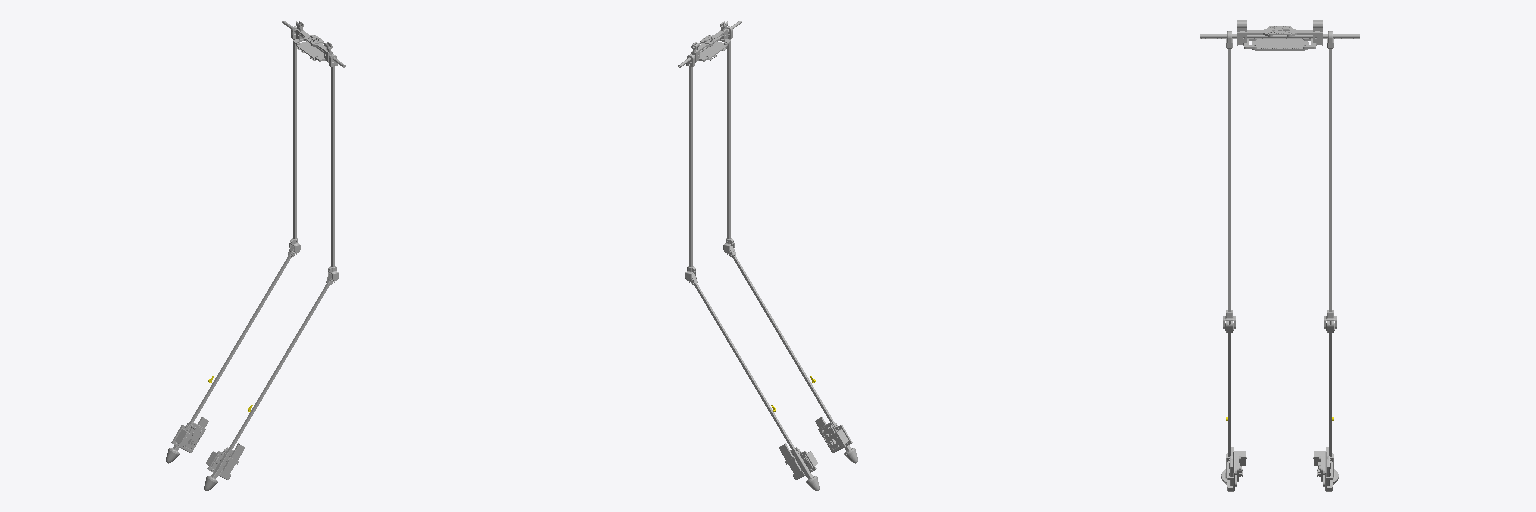
robot.urdf — urdf:
<?xml version="1.0" encoding="utf-8"?>
<!-- This URDF was automatically created by SolidWorks to URDF Exporter! Originally created by Stephen Brawner ([email redacted]) 
     Commit Version: 1.6.0-1-g15f4949  Build Version: 1.6.7594.29634
     For more information, please see http://wiki.ros.org/sw_urdf_exporter -->
<robot
  name="urdf">
  <link
    name="base_link">
    <inertial>
      <origin
        xyz="-0.00037819 9.7743E-06 -0.0034155"
        rpy="0 0 0" />
      <mass
        value="0.023056" />
      <inertia
        ixx="1.7761E-05"
        ixy="4.0386E-08"
        ixz="-6.8641E-09"
        iyy="1.3959E-06"
        iyz="8.9078E-09"
        izz="1.8127E-05" />
    </inertial>
    <visual>
      <origin
        xyz="0 0 0"
        rpy="0 0 0" />
      <geometry>
        <mesh
          filename="package://urdf/meshes/base_link.STL" />
      </geometry>
      <material
        name="">
        <color
          rgba="0.75294 0.75294 0.75294 1" />
      </material>
    </visual>
    <collision>
      <origin
        xyz="0 0 0"
        rpy="0 0 0" />
      <geometry>
        <mesh
          filename="package://urdf/meshes/base_link.STL" />
      </geometry>
    </collision>
  </link>
  <link
    name="PELVIS">
    <inertial>
      <origin
        xyz="-0.00037819 9.7743E-06 -0.0034155"
        rpy="0 0 0" />
      <mass
        value="0.023056" />
      <inertia
        ixx="1.7761E-05"
        ixy="4.0386E-08"
        ixz="-6.8641E-09"
        iyy="1.3959E-06"
        iyz="8.9078E-09"
        izz="1.8127E-05" />
    </inertial>
    <visual>
      <origin
        xyz="0 0 0"
        rpy="0 0 0" />
      <geometry>
        <mesh
          filename="package://urdf/meshes/PELVIS.STL" />
      </geometry>
      <material
        name="">
        <color
          rgba="0.75294 0.75294 0.75294 1" />
      </material>
    </visual>
    <collision>
      <origin
        xyz="0 0 0"
        rpy="0 0 0" />
      <geometry>
        <mesh
          filename="package://urdf/meshes/PELVIS.STL" />
      </geometry>
    </collision>
  </link>
  <joint
    name="floating_joint"
    type="fixed">
    <origin
      xyz="0 0 0"
      rpy="0 0 0" />
    <parent
      link="base_link" />
    <child
      link="PELVIS" />
    <axis
      xyz="0 0 0" />
  </joint>
  <link
    name="FEMUR_LEFT">
    <inertial>
      <origin
        xyz="-3.7698E-05 0.18369 -2.7803E-06"
        rpy="0 0 0" />
      <mass
        value="0.010918" />
      <inertia
        ixx="8.5863E-05"
        ixy="-2.5256E-09"
        ixz="2.8665E-13"
        iyy="9.2522E-08"
        iyz="6.8531E-11"
        izz="8.5853E-05" />
    </inertial>
    <visual>
      <origin
        xyz="0 0 0"
        rpy="0 0 0" />
      <geometry>
        <mesh
          filename="package://urdf/meshes/FEMUR_LEFT.STL" />
      </geometry>
      <material
        name="">
        <color
          rgba="0.75294 0.75294 0.75294 1" />
      </material>
    </visual>
    <collision>
      <origin
        xyz="0 0 0"
        rpy="0 0 0" />
      <geometry>
        <mesh
          filename="package://urdf/meshes/FEMUR_LEFT.STL" />
      </geometry>
    </collision>
  </link>
  <joint
    name="HIP_LEFT"
    type="revolute">
    <origin
      xyz="0 0.058025 0"
      rpy="-1.5708 0 0" />
    <parent
      link="PELVIS" />
    <child
      link="FEMUR_LEFT" />
    <axis
      xyz="0 0 1" />
    <limit
      lower="-1.57"
      upper="1.57"
      effort="0"
      velocity="0" />
  </joint>
  <link
    name="TIBIA_LEFT">
    <inertial>
      <origin
        xyz="0.0055109 0.22055 -0.0034787"
        rpy="0 0 0" />
      <mass
        value="0.028163" />
      <inertia
        ixx="3.0121E-05"
        ixy="1.791E-07"
        ixz="4.6609E-08"
        iyy="1.0967E-06"
        iyz="-1.2301E-07"
        izz="3.0714E-05" />
    </inertial>
    <visual>
      <origin
        xyz="0 0 0"
        rpy="0 0 0" />
      <geometry>
        <mesh
          filename="package://urdf/meshes/TIBIA_LEFT.STL" />
      </geometry>
      <material
        name="">
        <color
          rgba="0.75294 0.75294 0.75294 1" />
      </material>
    </visual>
    <collision>
      <origin
        xyz="0 0 0"
        rpy="0 0 0" />
      <geometry>
        <mesh
          filename="package://urdf/meshes/TIBIA_LEFT.STL" />
      </geometry>
    </collision>
  </link>
  <joint
    name="KNEE_LEFT"
    type="revolute">
    <origin
      xyz="0 0.36501 0"
      rpy="0 0 0" />
    <parent
      link="FEMUR_LEFT" />
    <child
      link="TIBIA_LEFT" />
    <axis
      xyz="0 0 1" />
    <limit
      lower="0.47124"
      upper="0.7854"
      effort="0"
      velocity="0" />
  </joint>
  <link
    name="MOTORARM_LEFT">
    <inertial>
      <origin
        xyz="0.0016754 1.3878E-17 -0.0006327"
        rpy="0 0 0" />
      <mass
        value="6.5322E-05" />
      <inertia
        ixx="1.6456E-10"
        ixy="7.5509E-26"
        ixz="-6.9245E-11"
        iyy="6.5279E-10"
        iyz="-6.6696E-27"
        izz="7.0527E-10" />
    </inertial>
    <visual>
      <origin
        xyz="0 0 0"
        rpy="0 0 0" />
      <geometry>
        <mesh
          filename="package://urdf/meshes/MOTORARM_LEFT.STL" />
      </geometry>
      <material
        name="">
        <color
          rgba="1 0.93725 0.13725 1" />
      </material>
    </visual>
    <collision>
      <origin
        xyz="0 0 0"
        rpy="0 0 0" />
      <geometry>
        <mesh
          filename="package://urdf/meshes/MOTORARM_LEFT.STL" />
      </geometry>
    </collision>
  </link>
  <joint
    name="MOTOR_LEFT"
    type="revolute">
    <origin
      xyz="-0.008375 0.24032 0.001"
      rpy="-3.1416 0 -1.5708" />
    <parent
      link="TIBIA_LEFT" />
    <child
      link="MOTORARM_LEFT" />
    <axis
      xyz="0 0 -1" />
    <limit
      lower="0"
      upper="3.14"
      effort="0"
      velocity="0" />
  </joint>
  <link
    name="FOOT_LEFT">
    <inertial>
      <origin
        xyz="-0.008375 0.0016327 0.055205"
        rpy="0 0 0" />
      <mass
        value="6.5322E-05" />
      <inertia
        ixx="6.5279E-10"
        ixy="-1.2889E-26"
        ixz="-2.4945E-26"
        iyy="7.0527E-10"
        iyz="6.9245E-11"
        izz="1.6456E-10" />
    </inertial>
    <visual>
      <origin
        xyz="0 0 0"
        rpy="0 0 0" />
      <geometry>
        <mesh
          filename="package://urdf/meshes/FOOT_LEFT.STL" />
      </geometry>
      <material
        name="">
        <color
          rgba="1 0.93725 0.13725 1" />
      </material>
    </visual>
    <collision>
      <origin
        xyz="0 0 0"
        rpy="0 0 0" />
      <geometry>
        <mesh
          filename="package://urdf/meshes/FOOT_LEFT.STL" />
      </geometry>
    </collision>
  </link>
  <joint
    name="ANKLE_LEFT"
    type="fixed">
    <origin
      xyz="0 0.29385 0"
      rpy="1.5708 0 0" />
    <parent
      link="TIBIA_LEFT" />
    <child
      link="FOOT_LEFT" />
    <axis
      xyz="0 0 0" />
  </joint>
  <link
    name="FEMUR_RIGHT">
    <inertial>
      <origin
        xyz="-3.7698417155176E-05 0.183694724928048 -2.78032474747975E-06"
        rpy="0 0 0" />
      <mass
        value="0.0109175428490063" />
      <inertia
        ixx="8.58632850507049E-05"
        ixy="-2.52564717448929E-09"
        ixz="2.86651344393802E-13"
        iyy="9.2522234164433E-08"
        iyz="6.85309671757595E-11"
        izz="8.58532795512158E-05" />
    </inertial>
    <visual>
      <origin
        xyz="0 0 0"
        rpy="0 0 0" />
      <geometry>
        <mesh
          filename="package://urdf/meshes/FEMUR_RIGHT.STL" />
      </geometry>
      <material
        name="">
        <color
          rgba="0.752941176470588 0.752941176470588 0.752941176470588 1" />
      </material>
    </visual>
    <collision>
      <origin
        xyz="0 0 0"
        rpy="0 0 0" />
      <geometry>
        <mesh
          filename="package://urdf/meshes/FEMUR_RIGHT.STL" />
      </geometry>
    </collision>
  </link>
  <joint
    name="HIP_RIGHT"
    type="revolute">
    <origin
      xyz="0 -0.058025 0"
      rpy="-1.5708 0 0" />
    <parent
      link="PELVIS" />
    <child
      link="FEMUR_RIGHT" />
    <axis
      xyz="0 0 1" />
    <limit
      lower="-1.57"
      upper="1.57"
      effort="0"
      velocity="0" />
  </joint>
  <link
    name="TIBIA_RIGHT">
    <inertial>
      <origin
        xyz="0.00569572176239753 0.220549686905979 0.00347872250064026"
        rpy="0 0 0" />
      <mass
        value="0.0281627066865375" />
      <inertia
        ixx="3.01214643574385E-05"
        ixy="1.79084311402751E-07"
        ixz="-4.66093865175517E-08"
        iyy="1.09665215720643E-06"
        iyz="1.23014999941794E-07"
        izz="3.07141758038918E-05" />
    </inertial>
    <visual>
      <origin
        xyz="0 0 0"
        rpy="0 0 0" />
      <geometry>
        <mesh
          filename="package://urdf/meshes/TIBIA_RIGHT.STL" />
      </geometry>
      <material
        name="">
        <color
          rgba="0.752941176470588 0.752941176470588 0.752941176470588 1" />
      </material>
    </visual>
    <collision>
      <origin
        xyz="0 0 0"
        rpy="0 0 0" />
      <geometry>
        <mesh
          filename="package://urdf/meshes/TIBIA_RIGHT.STL" />
      </geometry>
    </collision>
  </link>
  <joint
    name="KNEE_RIGHT"
    type="revolute">
    <origin
      xyz="0 0.36501 0"
      rpy="0 0 0" />
    <parent
      link="FEMUR_RIGHT" />
    <child
      link="TIBIA_RIGHT" />
    <axis
      xyz="0 0 1" />
    <limit
      lower="0.47124"
      upper="0.7854"
      effort="0"
      velocity="0" />
  </joint>
  <link
    name="MOTORARM_RIGHT">
    <inertial>
      <origin
        xyz="0.00167544613607395 -2.70616862252382E-16 0.000632703260056822"
        rpy="0 0 0" />
      <mass
        value="6.53220786806276E-05" />
      <inertia
        ixx="1.64557530933627E-10"
        ixy="-4.71494170447285E-26"
        ixz="6.9245337903352E-11"
        iyy="6.52787110256909E-10"
        iyz="1.91747946404733E-27"
        izz="7.05267640970713E-10" />
    </inertial>
    <visual>
      <origin
        xyz="0 0 0"
        rpy="0 0 0" />
      <geometry>
        <mesh
          filename="package://urdf/meshes/MOTORARM_RIGHT.STL" />
      </geometry>
      <material
        name="">
        <color
          rgba="1 0.937254901960784 0.137254901960784 1" />
      </material>
    </visual>
    <collision>
      <origin
        xyz="0 0 0"
        rpy="0 0 0" />
      <geometry>
        <mesh
          filename="package://urdf/meshes/MOTORARM_RIGHT.STL" />
      </geometry>
    </collision>
  </link>
  <joint
    name="MOTOR_RIGHT"
    type="revolute">
    <origin
      xyz="-0.008375 0.24032 -0.001"
      rpy="3.1416 0 -1.5708" />
    <parent
      link="TIBIA_RIGHT" />
    <child
      link="MOTORARM_RIGHT" />
    <axis
      xyz="0 0 1" />
    <limit
      lower="0"
      upper="3.14"
      effort="0"
      velocity="0" />
  </joint>
  <link
    name="FOOT_RIGHT">
    <inertial>
      <origin
        xyz="-0.00837499999999998 -0.00163270326005471 0.0552054461360738"
        rpy="0 0 0" />
      <mass
        value="6.53220786806276E-05" />
      <inertia
        ixx="6.52787110256909E-10"
        ixy="1.52533182894715E-26"
        ixz="1.68435607457299E-25"
        iyy="7.05267640970713E-10"
        iyz="-6.92453379033502E-11"
        izz="1.64557530933627E-10" />
    </inertial>
    <visual>
      <origin
        xyz="0 0 0"
        rpy="0 0 0" />
      <geometry>
        <mesh
          filename="package://urdf/meshes/FOOT_RIGHT.STL" />
      </geometry>
      <material
        name="">
        <color
          rgba="1 0.937254901960784 0.137254901960784 1" />
      </material>
    </visual>
    <collision>
      <origin
        xyz="0 0 0"
        rpy="0 0 0" />
      <geometry>
        <mesh
          filename="package://urdf/meshes/FOOT_RIGHT.STL" />
      </geometry>
    </collision>
  </link>
  <joint
    name="ANKLE_RIGHT"
    type="fixed">
    <origin
      xyz="0 0.29385 0"
      rpy="1.5707963267949 0 0" />
    <parent
      link="TIBIA_RIGHT" />
    <child
      link="FOOT_RIGHT" />
    <axis
      xyz="0 0 0" />
  </joint>
  <link
    name="BALLOONS">
    <inertial>
      <origin
        xyz="-4.3257E-08 -0.385 -2.7842E-08"
        rpy="0 0 0" />
      <mass
        value="295.56" />
      <inertia
        ixx="14.961"
        ixy="2.4516E-06"
        ixz="1.0965E-08"
        iyy="2.2513"
        iyz="1.7207E-07"
        izz="14.961" />
    </inertial>
    <visual>
      <origin
        xyz="0 0 0"
        rpy="0 0 0" />
      <geometry>
        <mesh
          filename="package://urdf/meshes/BALLOONS.STL" />
      </geometry>
      <material
        name="">
        <color
          rgba="0.75294 0.75294 0.75294 1" />
      </material>
    </visual>
    <collision>
      <origin
        xyz="0 0 0"
        rpy="0 0 0" />
      <geometry>
        <mesh
          filename="package://urdf/meshes/BALLOONS.STL" />
      </geometry>
    </collision>
  </link>
  <joint
    name="NECK"
    type="revolute">
    <origin
      xyz="0.0044439 0 0.015"
      rpy="-1.5708 0 0" />
    <parent
      link="PELVIS" />
    <child
      link="BALLOONS" />
    <axis
      xyz="0 0 1" />
    <limit
      lower="0"
      upper="0"
      effort="0"
      velocity="0" />
  </joint>
  <link
    name="BALLOON_COM">
    <inertial>
      <origin
        xyz="-3.4912E-08 -3.7301E-08 -4.6941E-06"
        rpy="0 0 0" />
      <mass
        value="295.56" />
      <inertia
        ixx="14.961"
        ixy="8.9026E-08"
        ixz="-5.7678E-07"
        iyy="14.961"
        iyz="9.3839E-08"
        izz="2.2513" />
    </inertial>
    <visual>
      <origin
        xyz="0 0 0"
        rpy="0 0 0" />
      <geometry>
        <mesh
          filename="package://urdf/meshes/BALLOON_COM.STL" />
      </geometry>
      <material
        name="">
        <color
          rgba="0.75294 0.75294 0.75294 1" />
      </material>
    </visual>
    <collision>
      <origin
        xyz="0 0 0"
        rpy="0 0 0" />
      <geometry>
        <mesh
          filename="package://urdf/meshes/BALLOON_COM.STL" />
      </geometry>
    </collision>
  </link>
  <joint
    name="BALLOON_FIXED_LINK"
    type="fixed">
    <origin
      xyz="0 -0.385 0"
      rpy="1.5707963267949 0 0" />
    <parent
      link="BALLOONS" />
    <child
      link="BALLOON_COM" />
    <axis
      xyz="0 0 0" />
  </joint>
</robot>

--- What the picture shows (computed from the rendered views, not written in the file) ---
Views: 3 orthographic renders of the robot side by side, from view 1: azimuth 30°, elevation 25°; view 2: azimuth 150°, elevation 25°; view 3: azimuth 270°, elevation 25°.
Model urdf with 12 links and 11 joints (7 revolute, 4 fixed), rooted at base_link, posed all joints at 0 but 2 set to mid-range because 0 is outside their limits (KNEE_LEFT = 0.6283, KNEE_RIGHT = 0.6283).
Visible links, largest first — view 1: TIBIA_RIGHT, TIBIA_LEFT, FEMUR_RIGHT, FEMUR_LEFT, PELVIS; view 2: TIBIA_LEFT, TIBIA_RIGHT, FEMUR_LEFT, FEMUR_RIGHT, PELVIS; view 3: PELVIS, TIBIA_LEFT, TIBIA_RIGHT, FEMUR_LEFT, FEMUR_RIGHT.
Boxes of the visible links, <box> form: TIBIA_RIGHT: <box>204,273,334,490</box>; TIBIA_LEFT: <box>166,246,296,463</box>; FEMUR_RIGHT: <box>328,54,338,280</box>; FEMUR_LEFT: <box>289,26,300,252</box>; PELVIS: <box>282,21,345,67</box>; TIBIA_LEFT: <box>689,273,819,490</box>; TIBIA_RIGHT: <box>727,246,857,463</box>; FEMUR_LEFT: <box>685,54,695,280</box>; FEMUR_RIGHT: <box>723,26,734,252</box>; PELVIS: <box>678,21,741,67</box>; PELVIS: <box>1200,20,1359,50</box>; TIBIA_LEFT: <box>1313,321,1338,491</box>; TIBIA_RIGHT: <box>1221,321,1246,491</box>; FEMUR_LEFT: <box>1324,31,1336,328</box>; FEMUR_RIGHT: <box>1223,31,1235,328</box>.
Size in the robot's own frame: 0.2407 by 0.185 by 0.6929 metres.
Meshes: 12 distinct files referenced, 7 mesh visuals loaded (7 binary STL); not drawn: 5 (reference not matched to a file when rendering).
